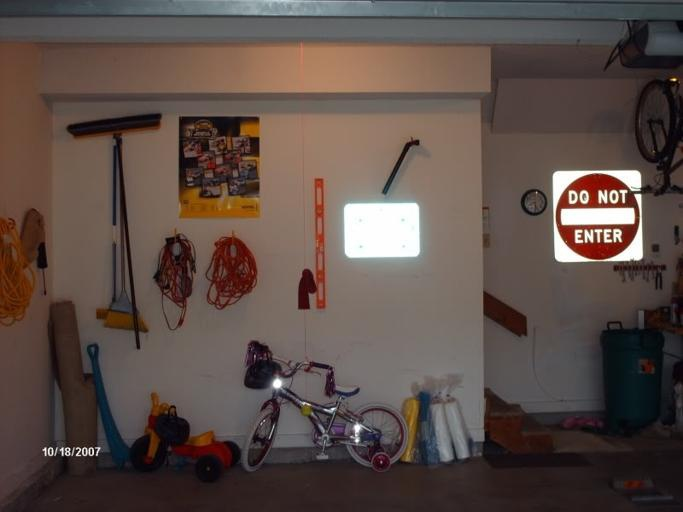non-vehicle: (239, 341, 408, 473), (626, 76, 683, 198)
